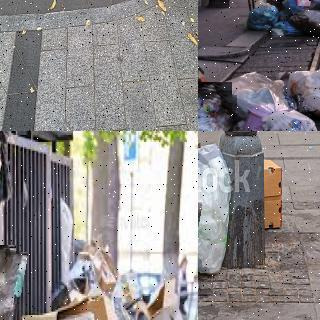Garbage: (198, 141, 228, 274), (218, 70, 296, 120), (286, 67, 320, 120), (261, 109, 320, 131), (247, 1, 280, 32), (289, 9, 320, 35), (283, 0, 320, 10)
